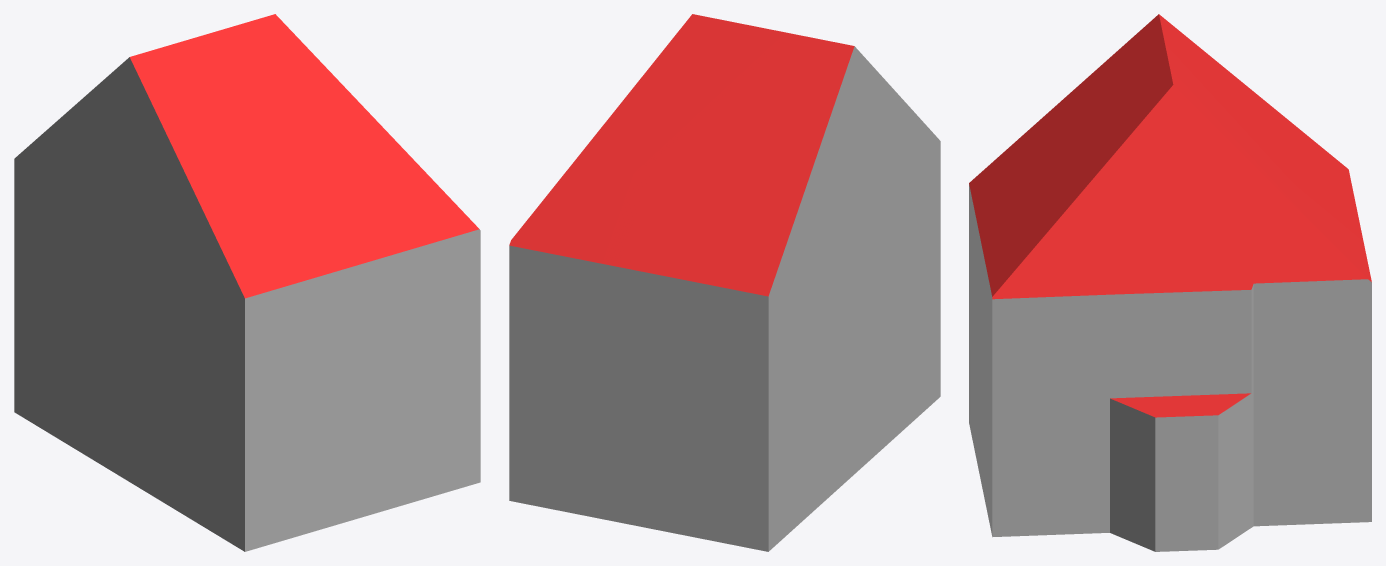
File: DEBY_LOD2_4780374.dae
3 renders of one model, left to right at view 1: azimuth 30°, elevation 25°; view 2: azimuth 150°, elevation 25°; view 3: azimuth 270°, elevation 25°, orthographic. The views are drawn at different scales.
Bounding box in the file's own units: 8.42 × 10.02 × 11.03.
